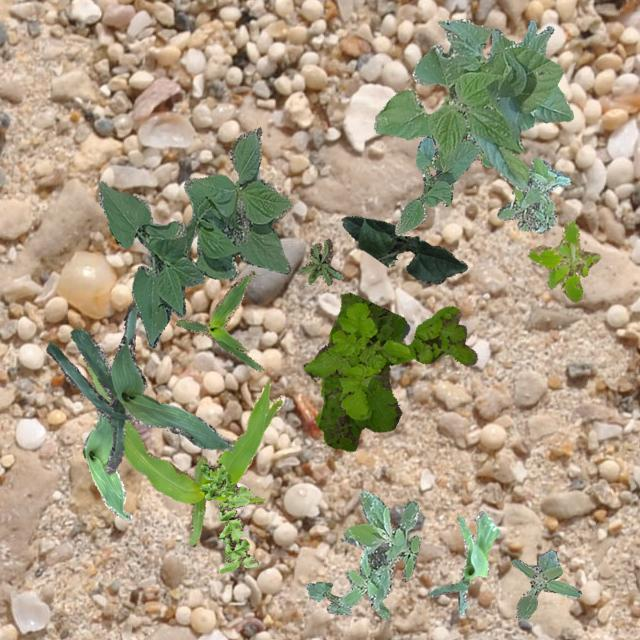crop: (97, 126, 290, 346), (84, 360, 282, 546), (372, 18, 562, 190), (46, 304, 232, 472), (175, 270, 262, 370), (488, 20, 572, 121), (341, 215, 466, 282), (394, 136, 479, 234), (428, 509, 499, 614), (81, 408, 130, 518), (306, 580, 350, 614)
weed: (302, 302, 476, 418), (316, 292, 408, 449), (336, 488, 419, 620), (198, 462, 258, 572), (526, 218, 600, 302), (496, 156, 570, 232), (510, 548, 580, 620), (298, 238, 342, 284), (459, 132, 491, 166)
